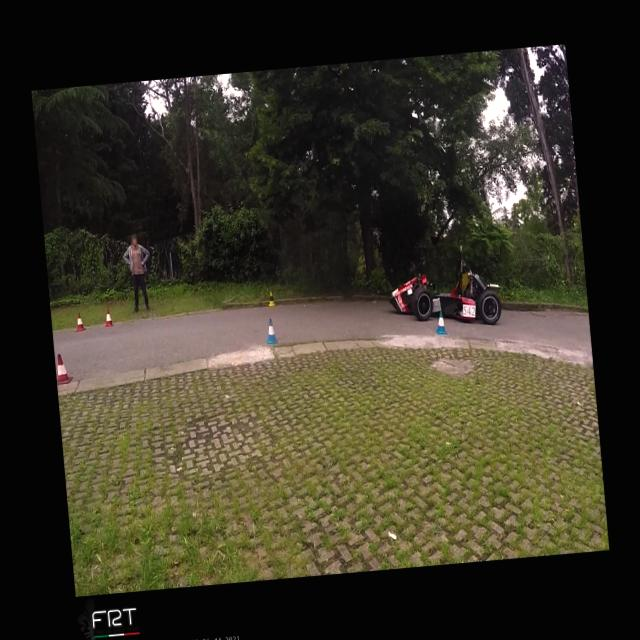blue_cone: (264, 317, 277, 343), (434, 311, 446, 334)
orange_cone: (54, 352, 73, 384), (74, 312, 85, 330), (104, 308, 114, 326)
yellow_cone: (267, 290, 275, 306)
